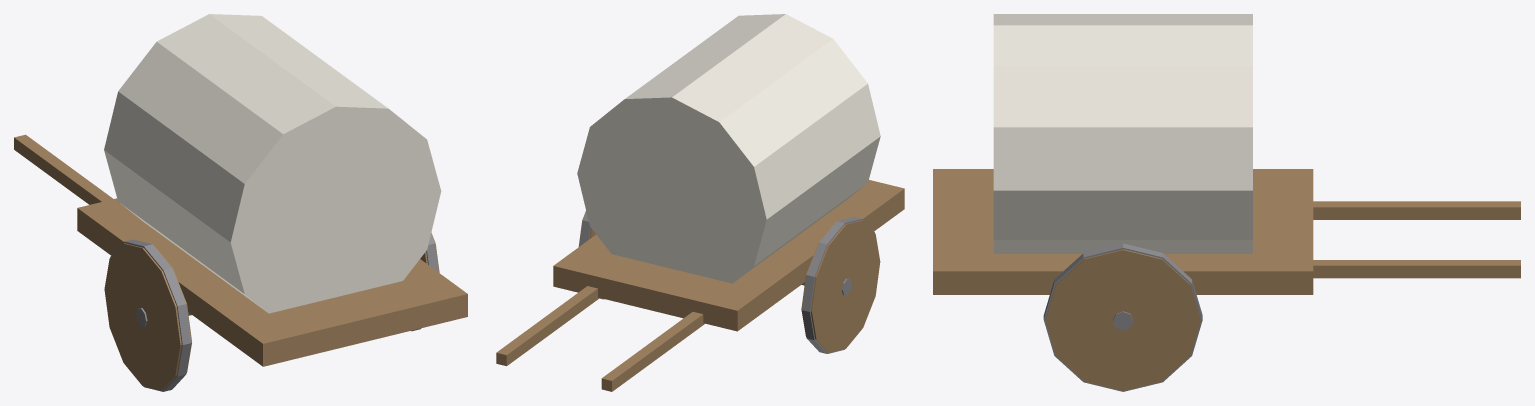
The model's file is caravan_cart.glb.
3 renders of one model, left to right at view 1: azimuth 30°, elevation 25°; view 2: azimuth 150°, elevation 25°; view 3: azimuth 270°, elevation 25°, orthographic. The views are drawn at different scales.
Visible parts, largest first — view 1: CanvasCanopy, CartBed, Cylinder.001, Cube, Cylinder.002; view 2: CanvasCanopy, CartBed, Cylinder.001, Cube, Cube.001, Cylinder.002; view 3: CanvasCanopy, CartBed, Cylinder.003, Cube, Cube.001, Cylinder.004.
Part boxes in pixels (left/top/right/bottom): CanvasCanopy: left=104, top=14, right=441, bottom=313; CartBed: left=77, top=198, right=467, bottom=366; Cylinder.001: left=104, top=243, right=191, bottom=390; Cube: left=14, top=134, right=112, bottom=204; Cylinder.002: left=110, top=239, right=191, bottom=391; CanvasCanopy: left=577, top=14, right=880, bottom=283; CartBed: left=553, top=180, right=904, bottom=331; Cylinder.001: left=801, top=220, right=880, bottom=352; Cube: left=601, top=312, right=704, bottom=391; Cube.001: left=496, top=286, right=599, bottom=366; Cylinder.002: left=802, top=217, right=874, bottom=353; CanvasCanopy: left=993, top=14, right=1252, bottom=253; CartBed: left=933, top=169, right=1313, bottom=294; Cylinder.003: left=1045, top=249, right=1200, bottom=390; Cube: left=1313, top=201, right=1520, bottom=219; Cube.001: left=1313, top=260, right=1520, bottom=278; Cylinder.004: left=1043, top=243, right=1202, bottom=391.
Size of the model in its own units: 1.8 by 1.93 by 3.4.
